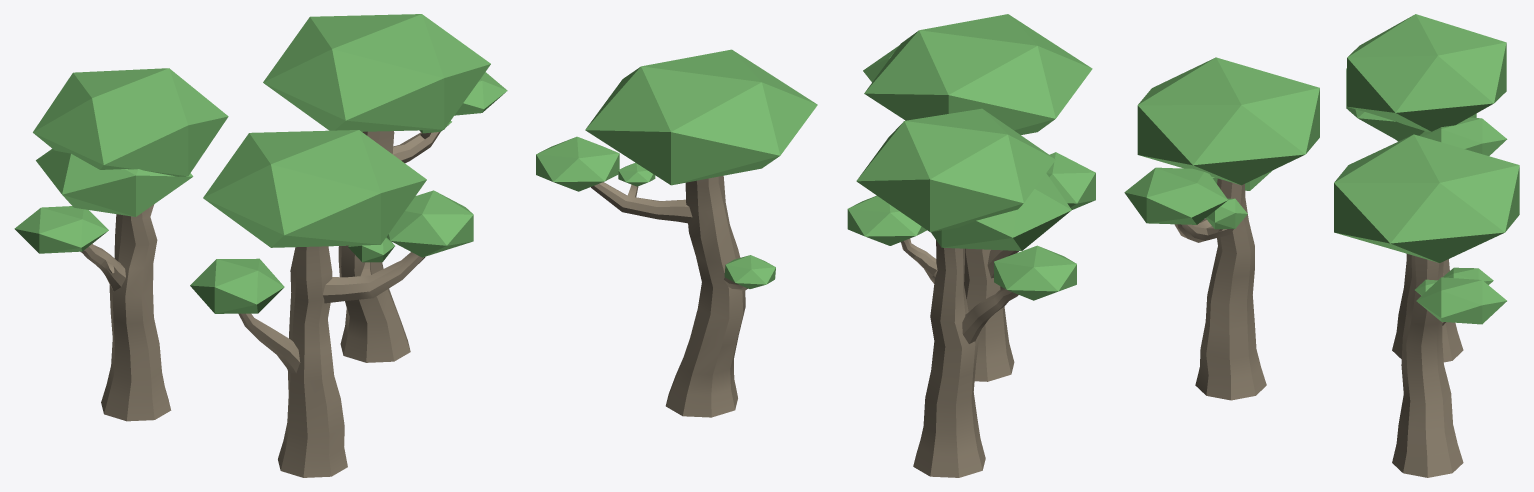
Rendered from Trees.fbx.
3 views of the same model, side by side, from view 1: azimuth 30°, elevation 25°; view 2: azimuth 150°, elevation 25°; view 3: azimuth 270°, elevation 25° (orthographic). The views are drawn at different scales.
Visible parts, largest first — view 1: Leaves5, Leaves9, Leaves2, Trunk3, Trunk1, Leaves3, Trunk2, Leaves10, leaves5, leaves4, Branch5, Branch6 (+4 smaller); view 2: Leaves5, Leaves9, Leaves2, Trunk2, Trunk1, Leaves3, Trunk3, Leaves6, leaves4, Leaves1, Branch3, leaves5 (+4 smaller); view 3: Leaves5, Leaves9, Leaves2, Trunk2, Trunk3, Leaves10, Leaves6, Leaves1, Trunk1, Leaves3, Leaves11, Branch5 (+1 smaller).
Boxes of the visible parts, bbox=[...] form: Leaves5: bbox=[263, 14, 490, 131]; Leaves9: bbox=[203, 130, 426, 247]; Leaves2: bbox=[33, 68, 228, 176]; Trunk3: bbox=[278, 246, 347, 477]; Trunk1: bbox=[101, 208, 171, 421]; Leaves3: bbox=[36, 148, 193, 216]; Trunk2: bbox=[338, 131, 410, 362]; Leaves10: bbox=[386, 190, 473, 257]; leaves5: bbox=[190, 258, 284, 313]; leaves4: bbox=[14, 206, 108, 253]; Branch5: bbox=[322, 252, 425, 303]; Branch6: bbox=[238, 313, 300, 373]; Leaves5: bbox=[585, 49, 817, 185]; Leaves9: bbox=[864, 14, 1092, 134]; Leaves2: bbox=[856, 108, 1055, 232]; Trunk2: bbox=[665, 175, 745, 417]; Trunk1: bbox=[913, 240, 985, 477]; Leaves3: bbox=[931, 173, 1071, 250]; Trunk3: bbox=[964, 248, 1014, 381]; Leaves6: bbox=[536, 136, 619, 191]; leaves4: bbox=[994, 245, 1076, 300]; Leaves1: bbox=[847, 195, 926, 245]; Branch3: bbox=[591, 182, 692, 223]; leaves5: bbox=[1046, 152, 1095, 209]; Leaves5: bbox=[1334, 134, 1519, 263]; Leaves9: bbox=[1137, 57, 1319, 185]; Leaves2: bbox=[1347, 14, 1506, 131]; Trunk2: bbox=[1392, 255, 1463, 477]; Trunk3: bbox=[1195, 178, 1266, 400]; Leaves10: bbox=[1124, 167, 1227, 224]; Leaves6: bbox=[1416, 277, 1506, 324]; Leaves1: bbox=[1420, 117, 1507, 155]; Trunk1: bbox=[1392, 253, 1463, 362]; Leaves3: bbox=[1346, 68, 1476, 141]; Leaves11: bbox=[1206, 198, 1247, 229]; Branch5: bbox=[1174, 218, 1233, 242].
Bounding box in the file's own units: 15.48 × 9.77 × 11.19.
